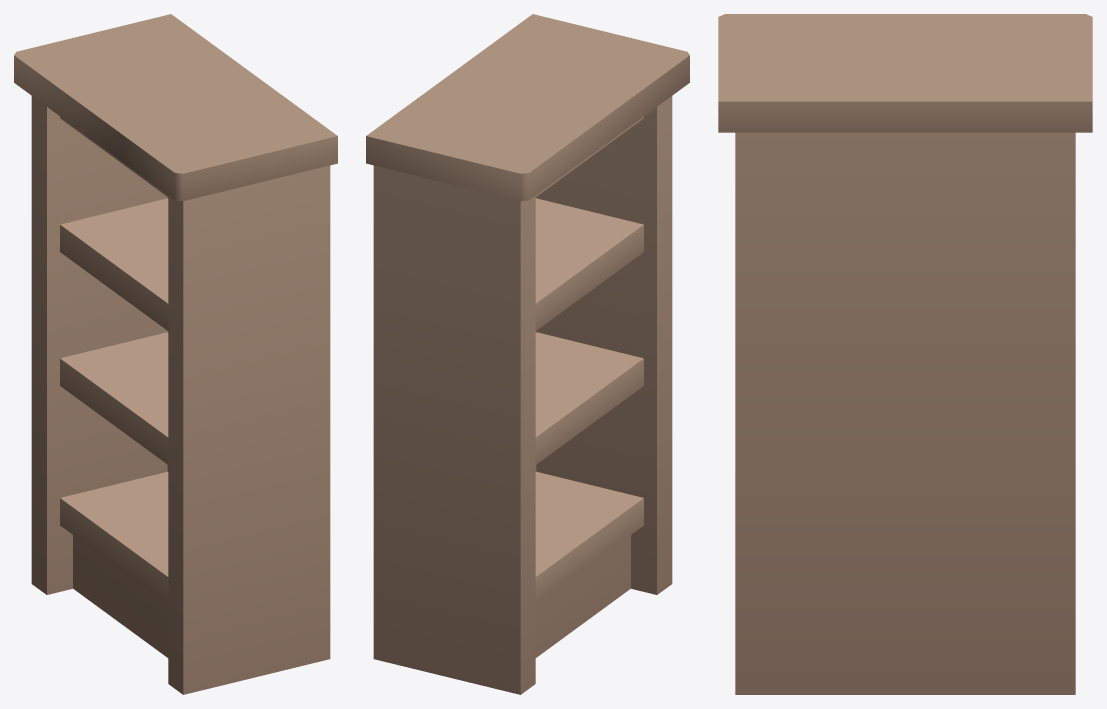
The model's file is cabinet-bookcase-classic-narrow-low.glb.
3 views of the same model, side by side, from view 1: azimuth 30°, elevation 25°; view 2: azimuth 150°, elevation 25°; view 3: azimuth 270°, elevation 25° (orthographic). The views are drawn at different scales.
Visible parts, largest first — view 1: cabinet-bookcase-classic-narrow-low; view 2: cabinet-bookcase-classic-narrow-low; view 3: cabinet-bookcase-classic-narrow-low.
Part boxes in pixels (bbox=[...]): cabinet-bookcase-classic-narrow-low: bbox=[14, 14, 337, 694]; cabinet-bookcase-classic-narrow-low: bbox=[366, 14, 689, 694]; cabinet-bookcase-classic-narrow-low: bbox=[718, 14, 1092, 694].
Size of the model in its own units: 0.305 by 0.962 by 0.55.
